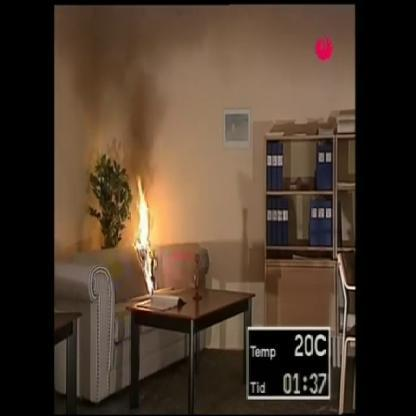fire: (130, 173, 169, 305)
